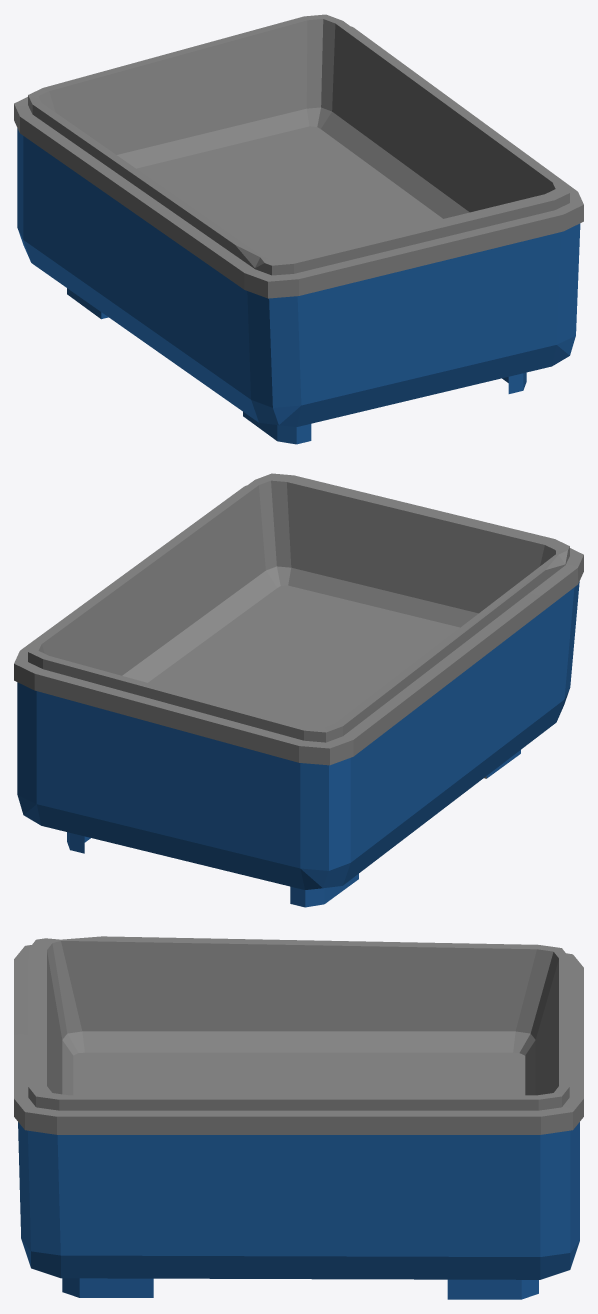
File: prop_54.FBX
3 renders of one model, top to bottom at view 1: azimuth 30°, elevation 25°; view 2: azimuth 150°, elevation 25°; view 3: azimuth 270°, elevation 25°, orthographic. The views are drawn at different scales.
Parts seen in each view (by area): view 1: prop_54; view 2: prop_54; view 3: prop_54.
Part boxes in pixels (<box>): prop_54: <box>14,14,583,444</box>; prop_54: <box>14,473,583,907</box>; prop_54: <box>14,936,583,1299</box>.
Size of the model in its own units: 25.53 by 14.5 by 35.04.
